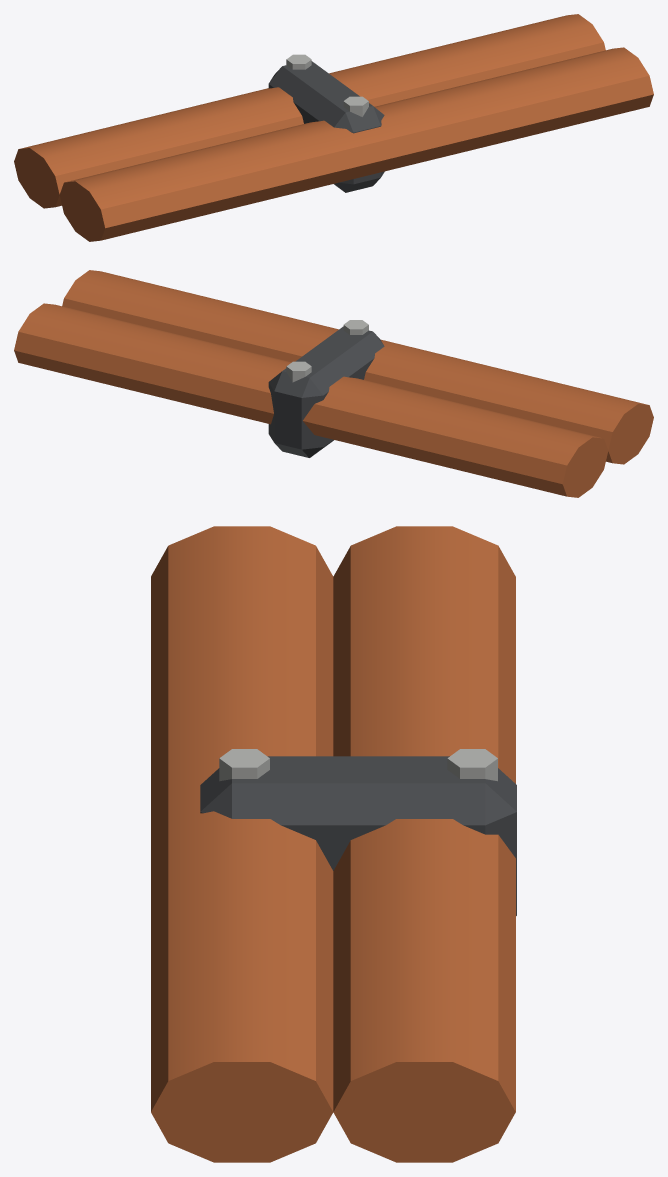
The model's file is heat-pipe-straight-horizontal.glb.
3 renders of one model, top to bottom at view 1: azimuth 30°, elevation 25°; view 2: azimuth 150°, elevation 25°; view 3: azimuth 270°, elevation 25°, orthographic. The views are drawn at different scales.
Visible parts, largest first — view 1: body; view 2: body; view 3: body.
Boxes of the visible parts, x1,y1,x2,y2 form: body: (14,14,653,241); body: (14,270,653,497); body: (151,526,516,1162).
Size of the model in its own units: 1 by 0.15 by 0.289.
